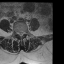CCS_normal: (20, 30, 22, 39)
LFS_normal: (23, 29, 26, 36)
LLS_normal: (22, 29, 23, 37)
RFS_normal: (16, 29, 18, 36)
RLS_normal: (18, 30, 20, 37)
